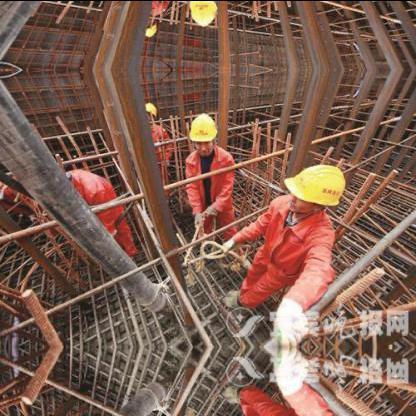Helmet: (285, 159, 347, 213), (186, 108, 218, 156), (186, 0, 218, 28), (137, 98, 157, 122), (137, 14, 157, 38)
